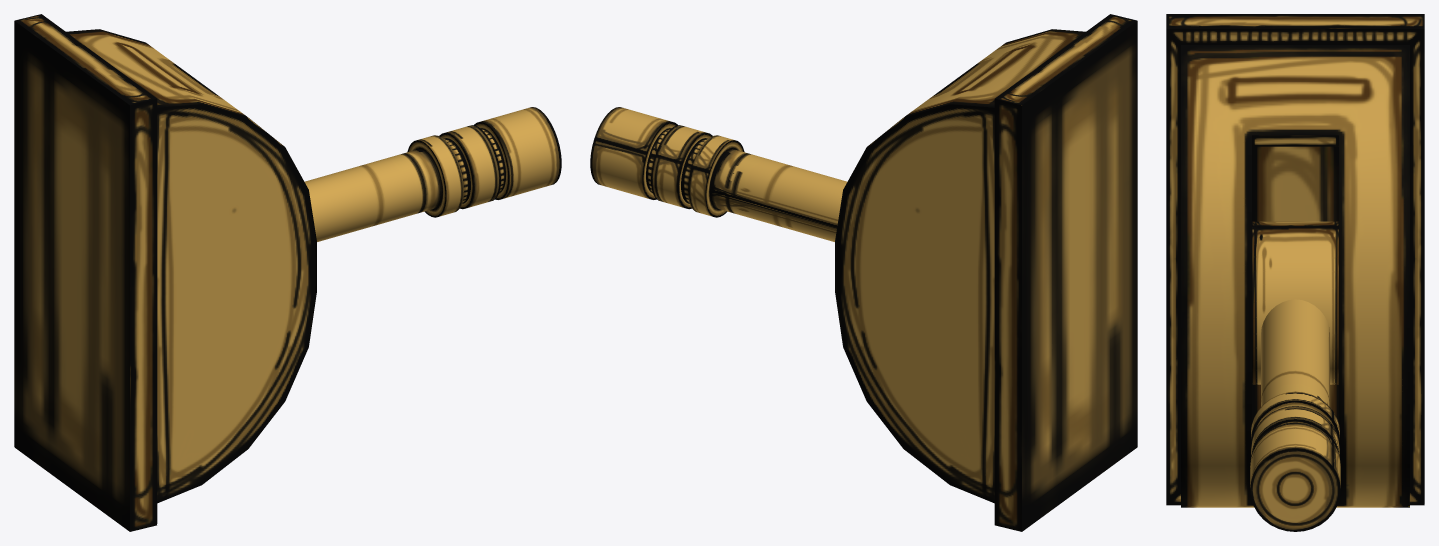
File: lever2.fbx
3 views of the same model, side by side, from view 1: azimuth 30°, elevation 25°; view 2: azimuth 150°, elevation 25°; view 3: azimuth 270°, elevation 25° (orthographic). The views are drawn at different scales.
Visible parts, largest first — view 1: leverpanel, levermain; view 2: leverpanel, levermain; view 3: leverpanel, levermain.
Boxes of the visible parts, x1=… form: leverpanel: x1=14, y1=14, x2=316, y2=531; levermain: x1=304, y1=107, x2=561, y2=241; leverpanel: x1=835, y1=14, x2=1137, y2=531; levermain: x1=590, y1=107, x2=847, y2=241; leverpanel: x1=1166, y1=14, x2=1424, y2=507; levermain: x1=1250, y1=221, x2=1340, y2=531.
Bounding box in the file's own units: 105 × 91.2 × 44.84.
